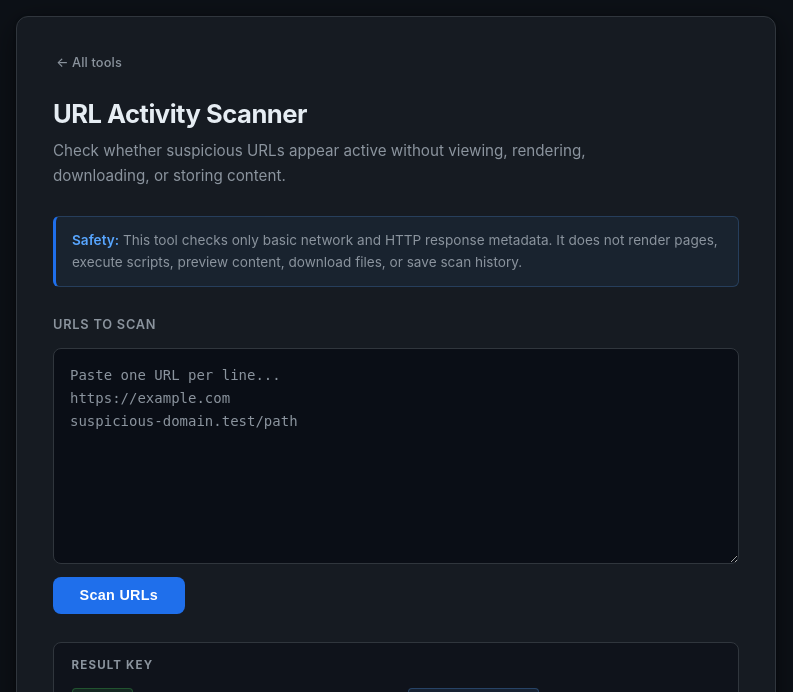
Test: 3. Frontend validation › shows an error for empty submission (test 5)
Click the button "Scan URLs".
click(119, 595)  # box x1=53 y1=577 x2=185 y2=614
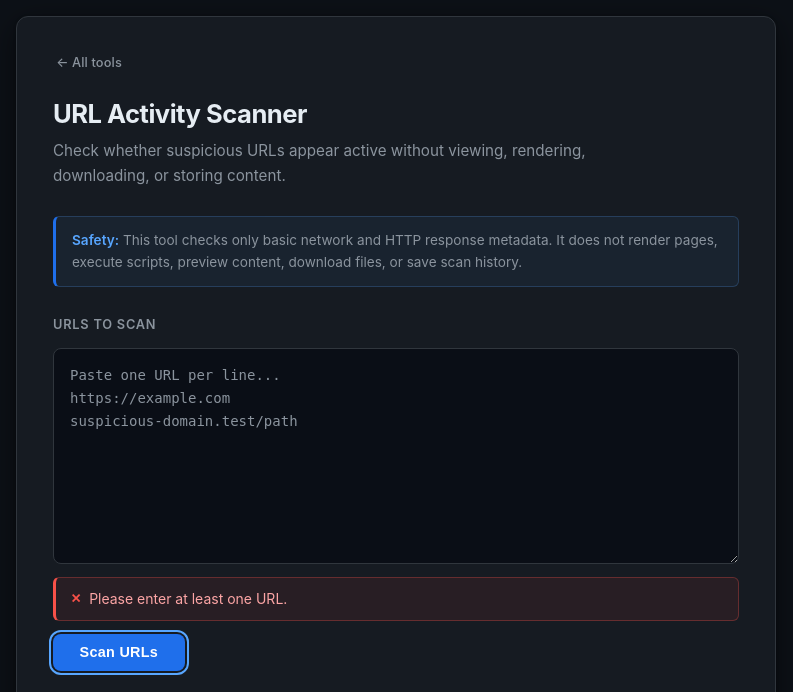
Check: the message shows "at least one URL", box x1=89 y1=590 x2=287 y2=607
